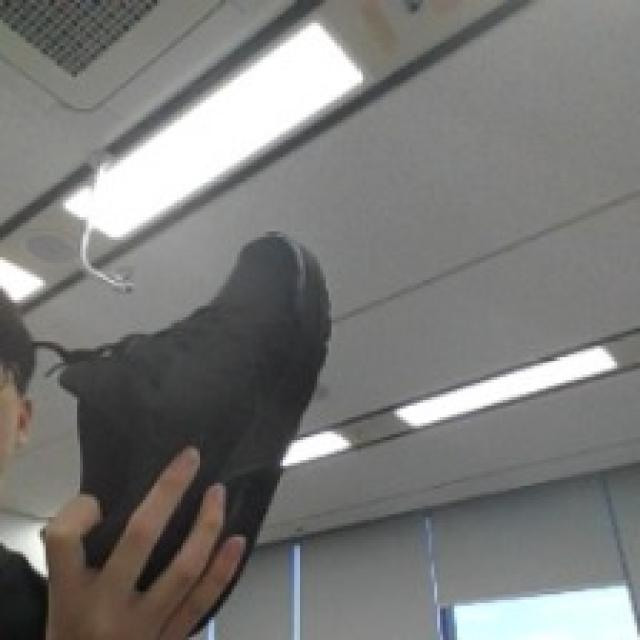shoe: (59, 231, 335, 630)
